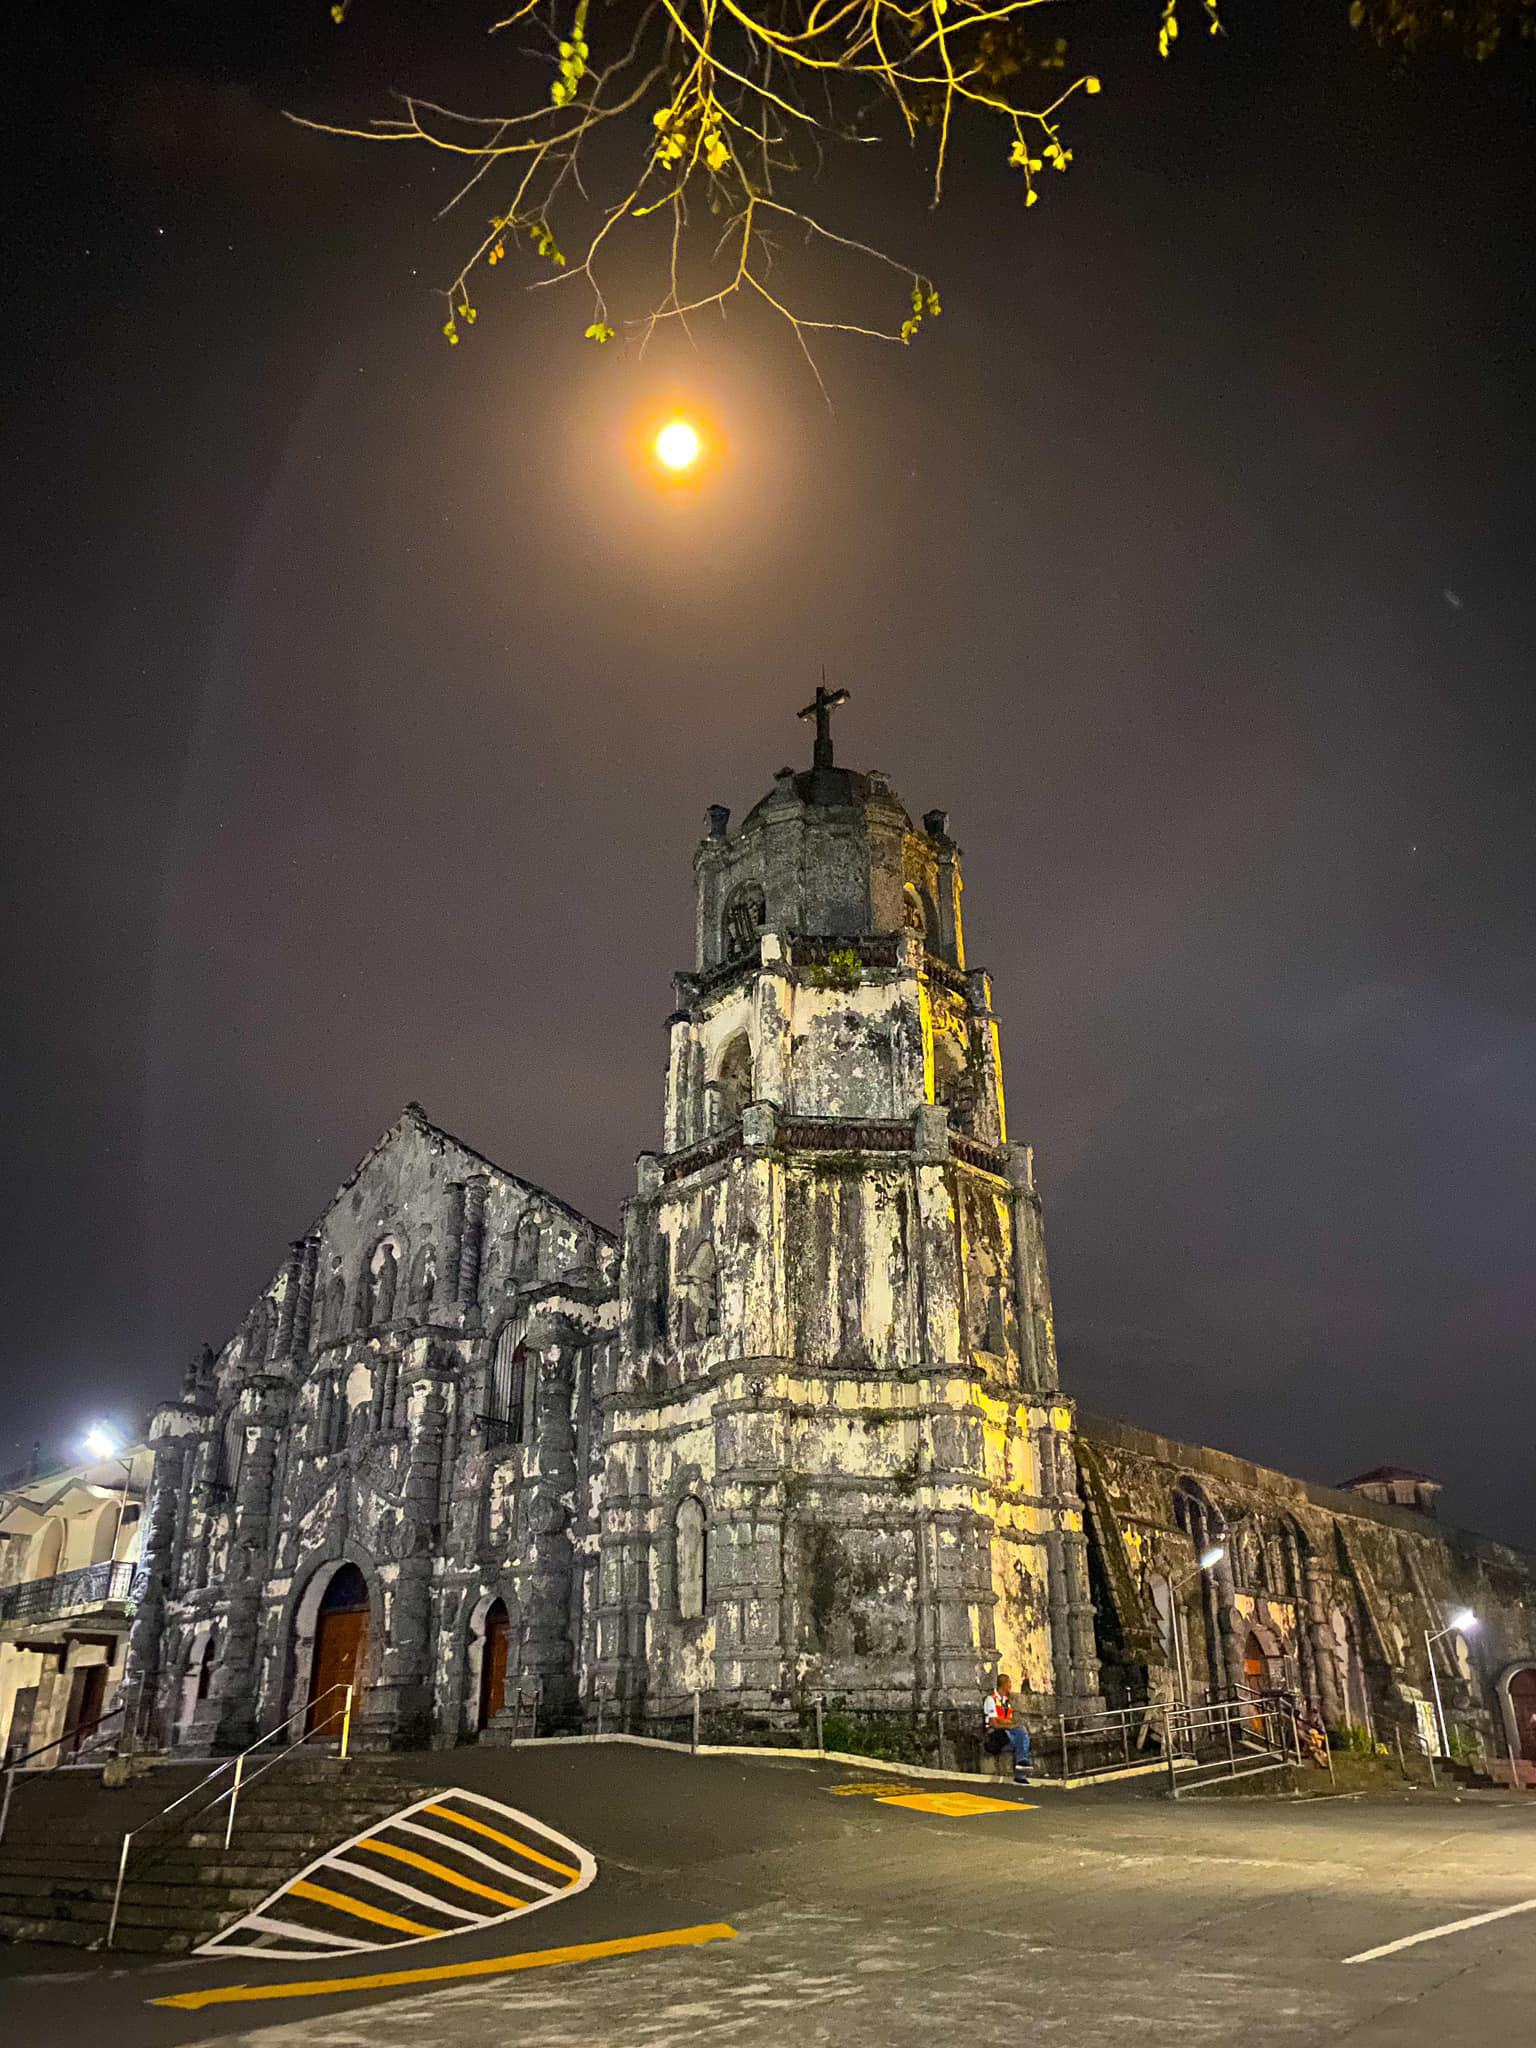daraga_church_daraga_albay: (116, 656, 1104, 1753)
